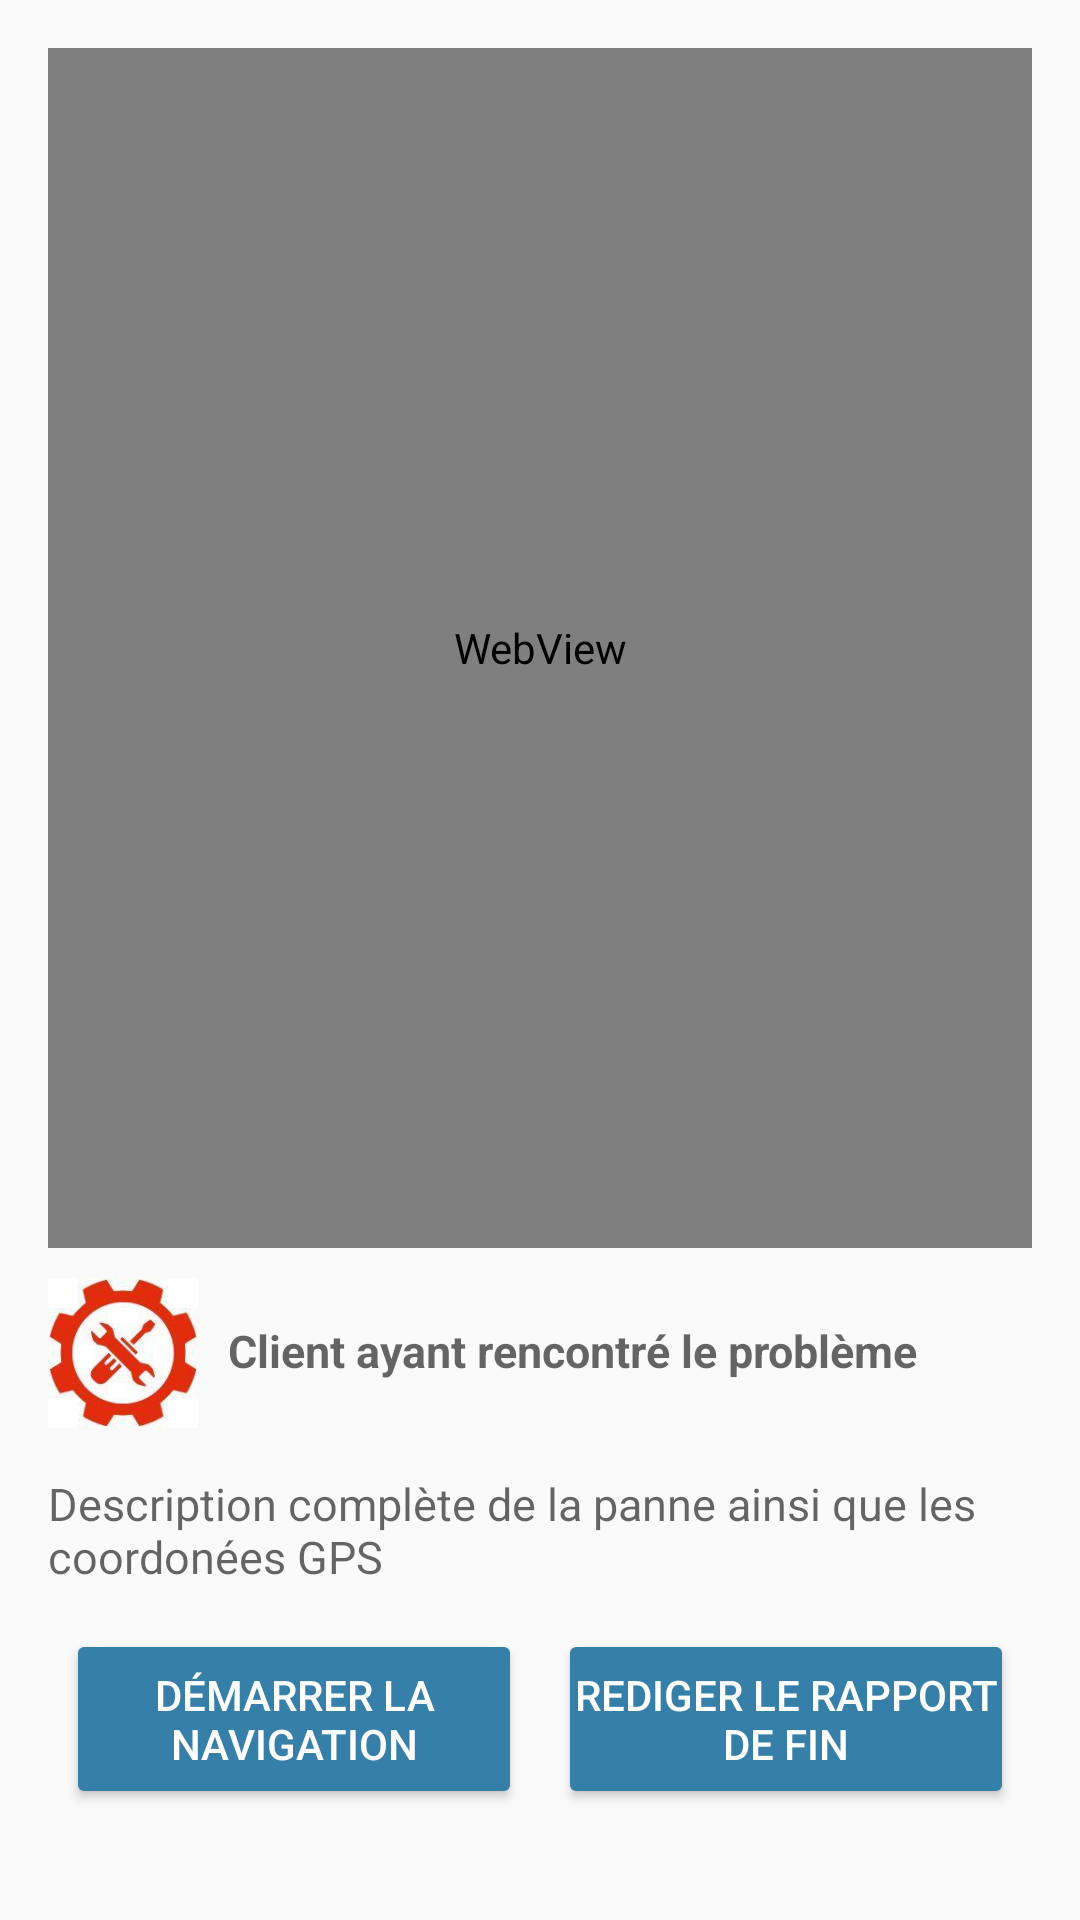

Icons on this 1080 x 1920 Android screen, each with the point to tap as [x,y]:
tools: [123,1353]
